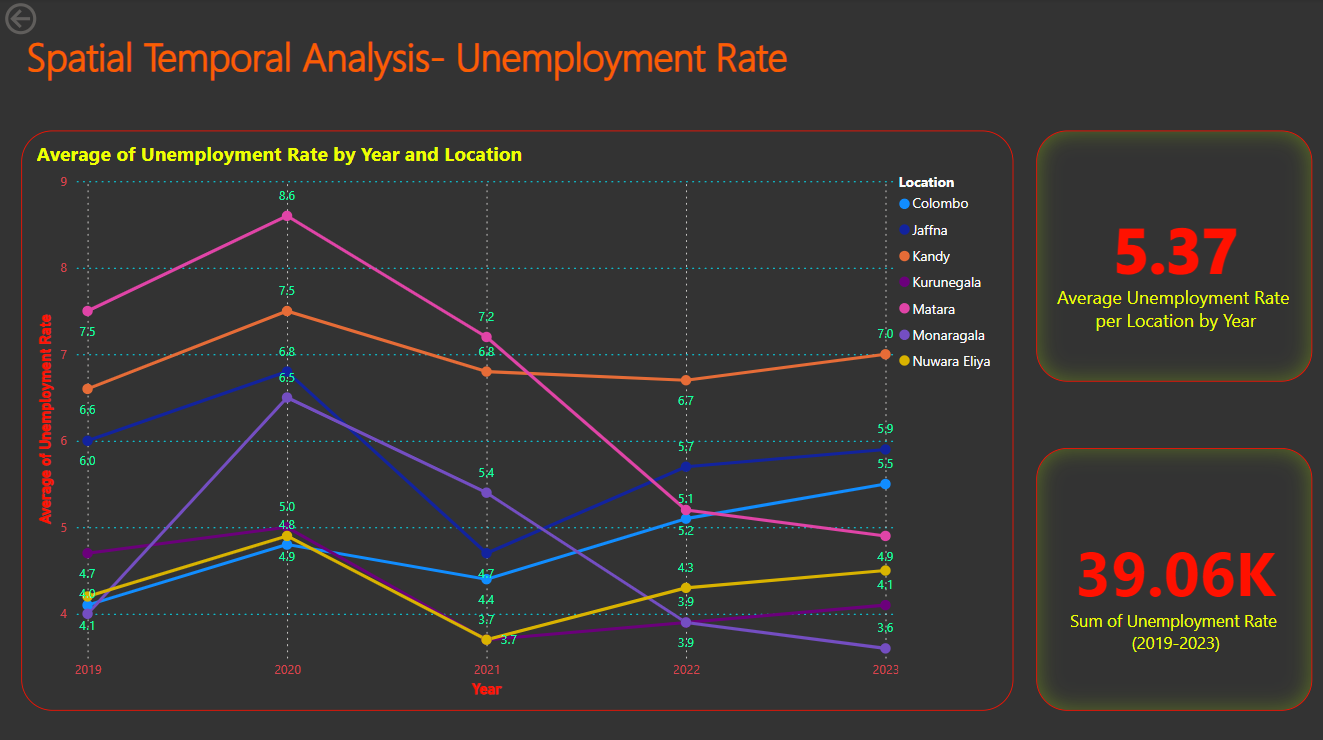

What the dashboard file says about the page in this screenshot:
{"tool":"powerbi","page":{"name":"Unemployment Rate","canvas":[1280,720],"ordinal":5},"visuals":[{"type":"textbox","box":[20,25,755,80],"z":0},{"type":"lineChart","fields":{"Y":["Avg(cleaned_spatial.Unemployment Rate)"],"Category":["cleaned_spatial.Year"],"Series":["cleaned_spatial.Location"]},"box":[20.5,127.9,957.9,559.8],"z":1000},{"type":"actionButton","box":[0,0,100,40],"z":2000},{"type":"card","fields":{"Values":["Avg(cleaned_spatial.Unemployment Rate)"]},"box":[1000.1,127.9,266.6,242.5],"z":3000},{"type":"card","fields":{"Values":["Sum(cleaned_spatial.Unemployment Rate)"]},"box":[1000.1,434.3,266.6,253.4],"z":4000}]}

Visuals, with their boxes in screenshot pixels (x1, y1, x2, y2), scaled from the page's 1280x720 canvas onto the 1323x740 screenshot:
textbox: <bbox>21, 26, 801, 108</bbox>
lineChart - Avg(cleaned_spatial.Unemployment Rate) x cleaned_spatial.Year: <bbox>21, 131, 1011, 707</bbox>
actionButton: <bbox>0, 0, 103, 41</bbox>
card - Avg(cleaned_spatial.Unemployment Rate): <bbox>1034, 131, 1309, 381</bbox>
card - Sum(cleaned_spatial.Unemployment Rate): <bbox>1034, 446, 1309, 707</bbox>
